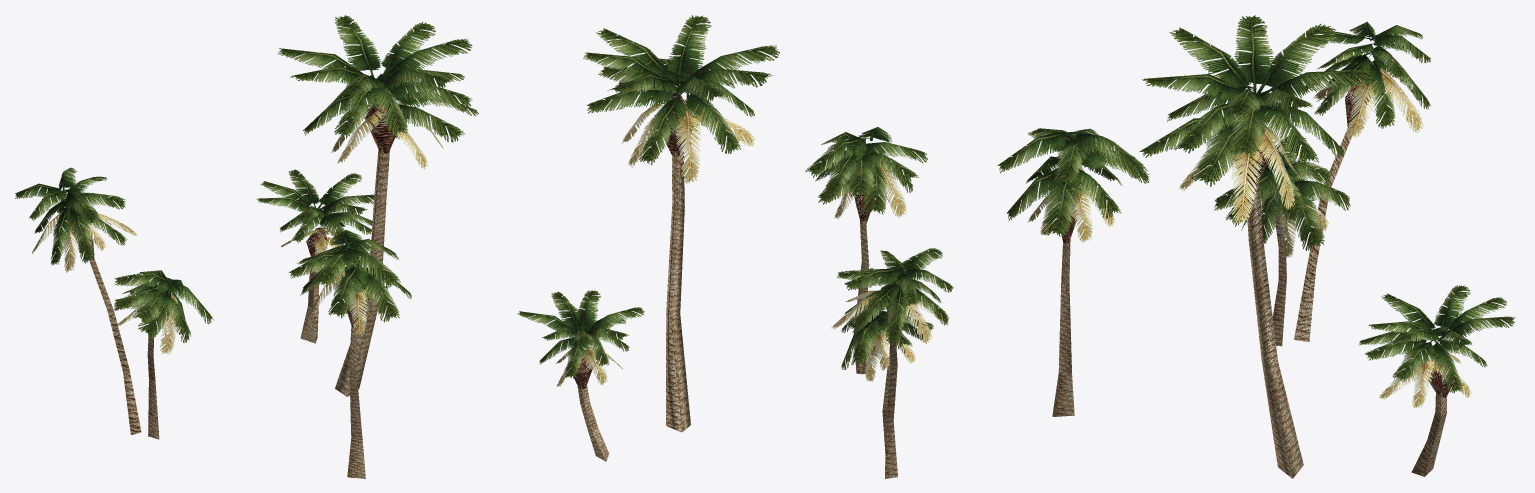
File: trees_palm_02.dae
3 views of the same model, side by side, from view 1: azimuth 30°, elevation 25°; view 2: azimuth 150°, elevation 25°; view 3: azimuth 270°, elevation 25° (orthographic). The views are drawn at different scales.
Visible parts, largest first — view 1: Object109_Pivot_Pivot002; view 2: Object109_Pivot_Pivot002; view 3: Object109_Pivot_Pivot002.
Boxes of the visible parts, <box> form: Object109_Pivot_Pivot002: <box>15,15,478,478</box>; Object109_Pivot_Pivot002: <box>517,15,954,478</box>; Object109_Pivot_Pivot002: <box>997,15,1515,478</box>.
Size of the model in its own units: 7.34 by 6.09 by 7.12.
